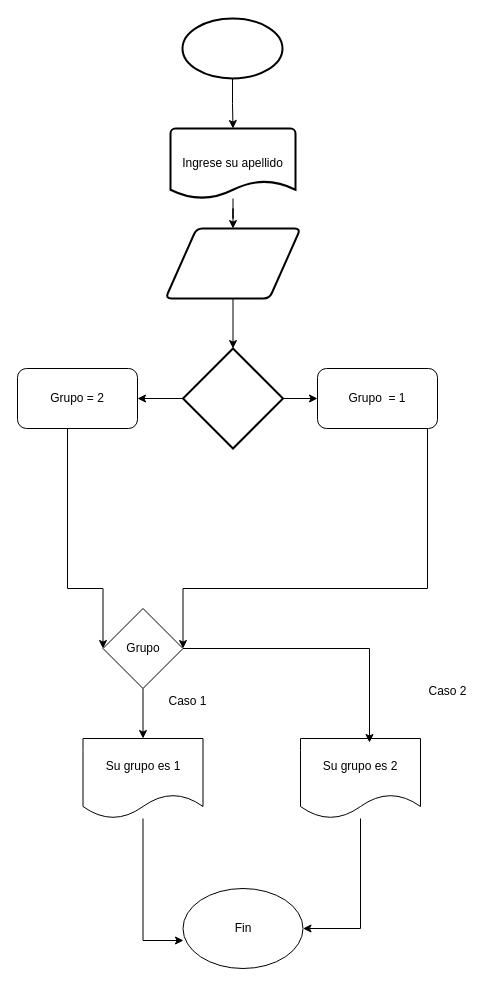
Some shapes in this 495 by 986 pixel diagram are drawn without their labels. Each missing label, with the centre of its shape:
"Inicio" goes at pixel 232 48.
"leer apellido" goes at pixel 232 263.
"Letra == A-M" goes at pixel 233 398.
